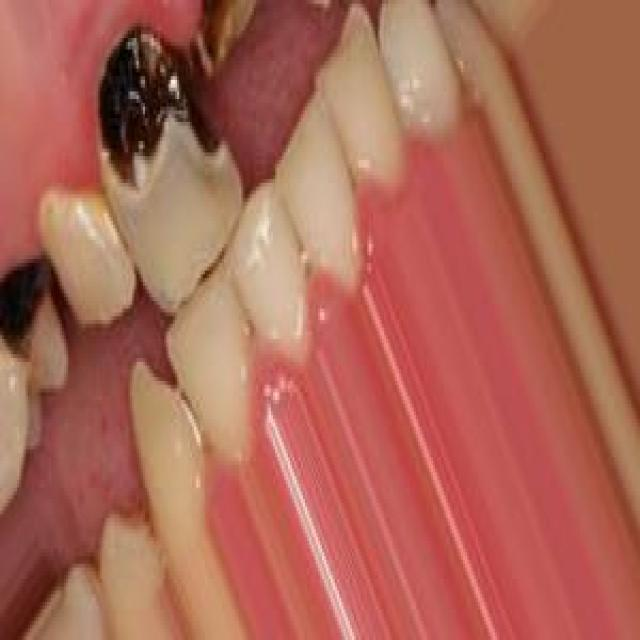caries: (89, 16, 227, 187), (0, 232, 62, 358), (188, 0, 254, 85)
